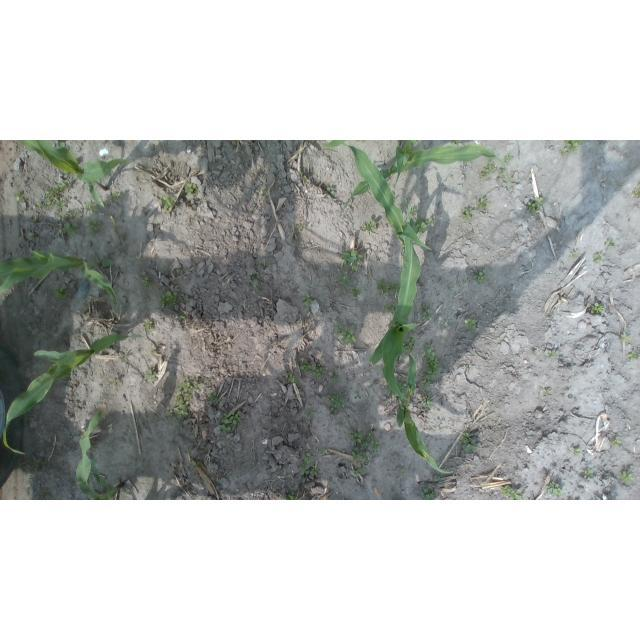Maize: (342, 143, 435, 400), (4, 333, 144, 455), (345, 142, 512, 208), (15, 141, 129, 208), (397, 349, 456, 476), (0, 249, 120, 309), (322, 140, 419, 186), (76, 410, 125, 500)
Weeds: (167, 375, 196, 421), (346, 427, 380, 463), (421, 345, 440, 388), (45, 180, 72, 210), (218, 410, 242, 435), (57, 211, 79, 238), (341, 250, 363, 273), (299, 452, 320, 476), (158, 290, 183, 310), (460, 430, 479, 453), (328, 391, 347, 413), (559, 140, 585, 156), (377, 279, 400, 297), (479, 156, 496, 179), (415, 217, 436, 235), (500, 485, 525, 500), (85, 218, 104, 237), (335, 327, 356, 344), (546, 482, 566, 497), (528, 198, 546, 213), (472, 268, 488, 284), (52, 285, 69, 300), (619, 469, 636, 484), (419, 303, 433, 321), (420, 488, 439, 501), (403, 333, 416, 352), (422, 391, 434, 410), (282, 370, 298, 384), (161, 194, 175, 210), (183, 182, 197, 197), (362, 220, 376, 235), (299, 293, 313, 307), (477, 199, 492, 212), (605, 237, 618, 251), (460, 208, 474, 221), (251, 281, 263, 296), (463, 318, 478, 330), (13, 191, 26, 204), (312, 364, 324, 378), (591, 303, 606, 314), (300, 360, 312, 373), (353, 465, 366, 477), (145, 370, 158, 382), (627, 350, 640, 362), (143, 318, 154, 332), (619, 334, 633, 345), (350, 286, 362, 298), (338, 273, 350, 285), (85, 201, 98, 212), (594, 252, 607, 263), (108, 379, 120, 390), (384, 303, 397, 313), (539, 388, 553, 397), (584, 468, 595, 479), (208, 392, 218, 404), (61, 169, 73, 179), (141, 276, 151, 288), (305, 407, 315, 418), (29, 231, 40, 241), (571, 445, 582, 455), (612, 437, 622, 448), (409, 205, 420, 215), (325, 186, 336, 196), (285, 491, 297, 500), (633, 183, 640, 198), (571, 250, 581, 260), (331, 373, 340, 384), (503, 154, 514, 163), (111, 193, 122, 202), (386, 387, 395, 398), (254, 262, 268, 269), (436, 471, 444, 483), (399, 380, 408, 390), (194, 379, 202, 390), (260, 188, 268, 199), (354, 390, 363, 399), (299, 171, 307, 181), (119, 355, 127, 364), (447, 284, 455, 293), (548, 350, 557, 358), (57, 141, 67, 148), (434, 422, 444, 429), (467, 363, 474, 373), (450, 140, 461, 146), (251, 274, 262, 280), (337, 419, 345, 427), (317, 445, 325, 453), (36, 203, 43, 212), (152, 347, 159, 356), (497, 168, 506, 174), (300, 225, 307, 232), (400, 470, 407, 477), (445, 319, 452, 326), (32, 217, 38, 224), (195, 461, 202, 467), (179, 315, 186, 321), (461, 278, 467, 285), (491, 494, 498, 500), (305, 422, 312, 427), (356, 141, 367, 144), (135, 256, 141, 261), (177, 267, 182, 273), (126, 488, 131, 493), (533, 350, 538, 355), (470, 230, 475, 234), (620, 183, 625, 187), (576, 487, 581, 491), (514, 472, 518, 477)
